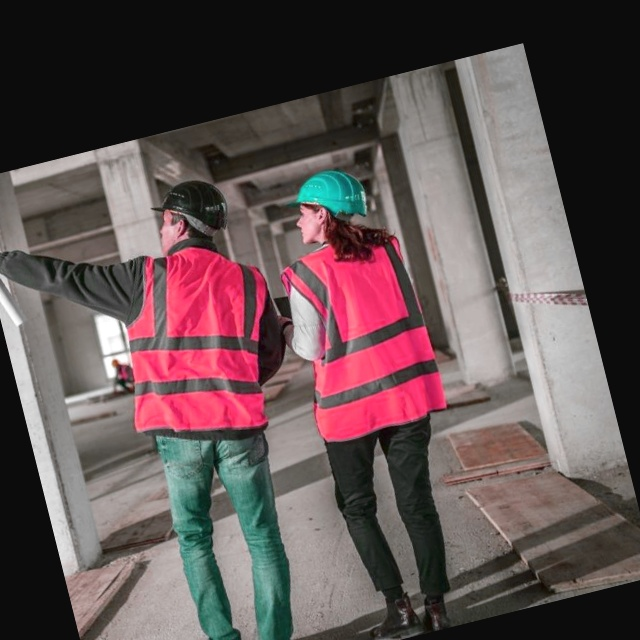Con_Casco: (280, 163, 377, 250)
Con_Chaleco: (96, 233, 295, 455), (267, 222, 445, 448)
